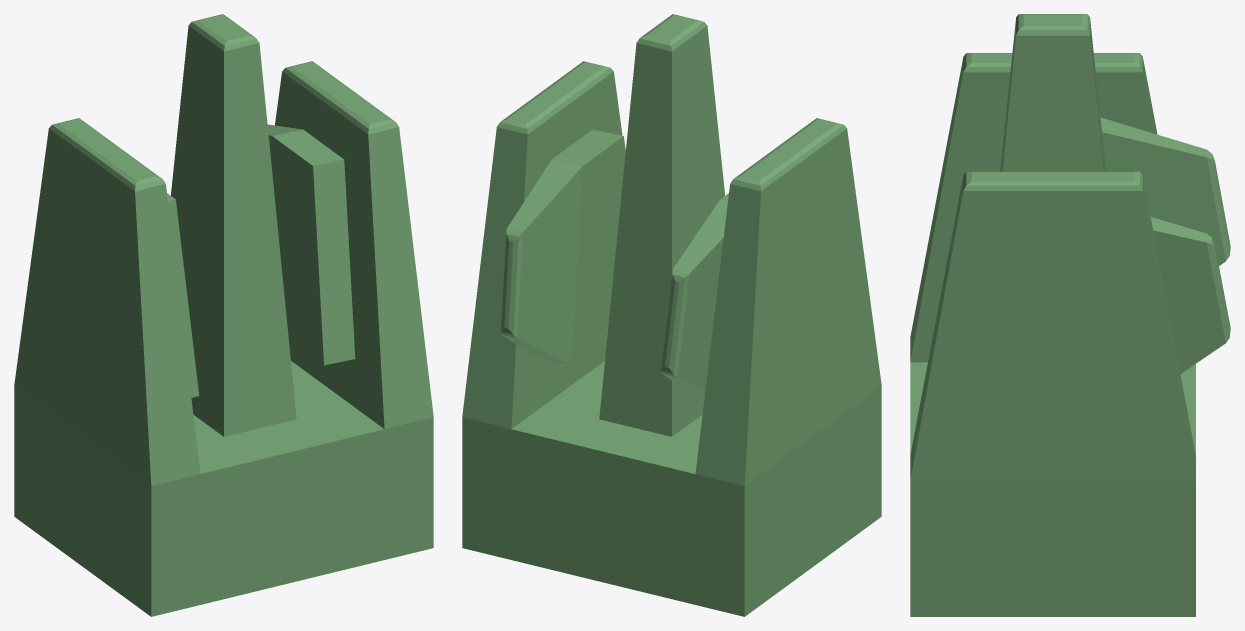
The model's file is Figure_5.fbx.
3 renders of one model, left to right at view 1: azimuth 30°, elevation 25°; view 2: azimuth 150°, elevation 25°; view 3: azimuth 270°, elevation 25°, orthographic. The views are drawn at different scales.
Parts seen in each view (by area): view 1: Figure_5; view 2: Figure_5; view 3: Figure_5.
Boxes of the visible parts, x1=… form: Figure_5: x1=14, y1=14, x2=433, y2=616; Figure_5: x1=462, y1=14, x2=881, y2=616; Figure_5: x1=910, y1=14, x2=1230, y2=616.
Size of the model in its own units: 0.8042 by 1.37 by 0.7584.
